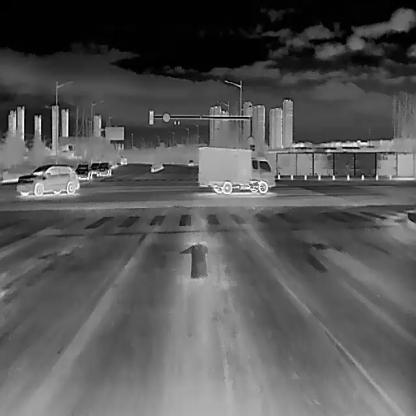car: (15, 164, 79, 194), (74, 162, 90, 178), (96, 161, 111, 175), (90, 161, 100, 174), (187, 158, 194, 166)
truck: (198, 145, 275, 194), (119, 155, 128, 164)
